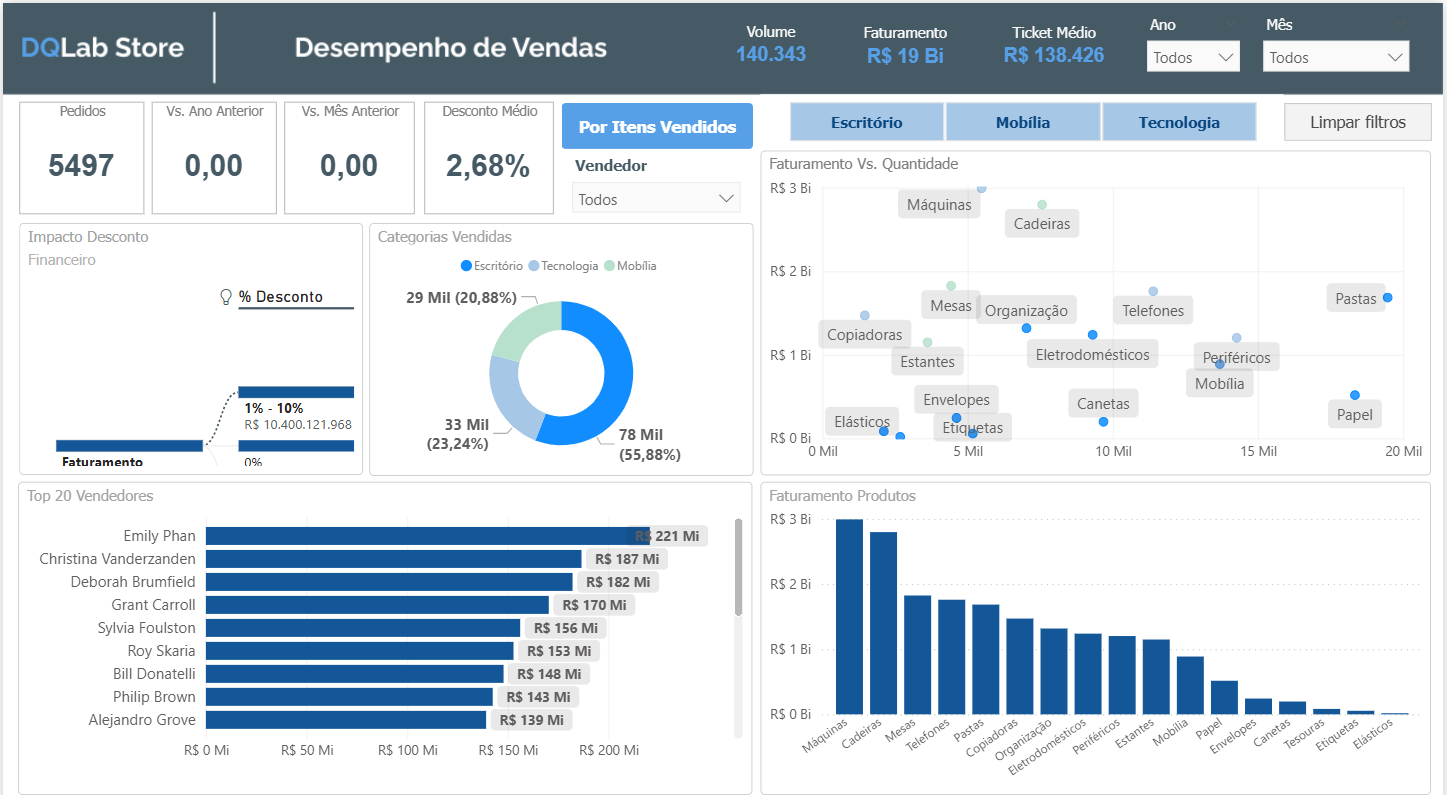

This screenshot's page, from the dashboard's own definition file:
{"tool":"powerbi","page":{"name":"Por Faturamento $","canvas":[1280,720],"ordinal":1},"visuals":[{"type":"card","title":"Volume","fields":{"Values":["Consulta8.quantidade_itens_vendidos"]},"box":[614.4,16.7,136.7,50],"z":0},{"type":"card","title":"Faturamento","fields":{"Values":["Consulta8.total_vendas"]},"box":[740,17.8,124.4,50],"z":1000},{"type":"slicer","fields":{"Values":["TabelaMeses.MesNome","TabelaMeses.MesNumero"]},"box":[1110,5.7,150,60],"z":2000},{"type":"card","title":"Ticket Médio","fields":{"Values":["Consulta8.TicketMedio"]},"box":[878.9,17.8,111.1,48.9],"z":3000},{"type":"clusteredBarChart","title":"Top Vendedores","fields":{"Category":["Consulta8.vendedor"],"Y":["RankingVendedores.total_vendas"]},"box":[13.8,425,652.5,278.8],"z":4000},{"type":"decompositionTreeVisual","title":"Impacto Desconto","fields":{"ExplainBy":["Consulta3.faixa_desconto"],"Analyze":["ImpactoDesconto.total_vendas"]},"box":[14.3,195.7,305.7,224.3],"z":5000},{"type":"clusteredColumnChart","title":"Faturamento Produtos","fields":{"Category":["Consulta1.subcategoria"],"Y":["ItensVsFaturamento.total_vendas"]},"box":[673.8,425,596.2,278.8],"z":6000},{"type":"donutChart","title":"Categorias Vendidas","fields":{"Category":["Consulta5.categoria_produto"],"Y":["Consulta5.itens_total"]},"box":[325,195,341.4,225],"z":7000},{"type":"scatterChart","title":"Faturamento Vs. Quantidade","fields":{"Y":["Consulta1.total_vendas"],"X":["Consulta1.itens_total"],"Category":["Consulta1.subcategoria"]},"box":[673.8,131.2,596.2,288.8],"z":8000},{"type":"slicer","fields":{"Values":["TabelaAnos.Ano"]},"box":[1007.1,5.7,102.9,60],"z":9000},{"type":"pageNavigator","box":[496.2,88.8,170,41.2],"z":10000},{"type":"card","title":"Vs. Mês Anterior","fields":{"Values":["ItensVsFaturamento.Crescimento % Mês Faturamento"]},"box":[250,88,116,100],"z":11000},{"type":"card","title":"Vs. Ano Anterior","fields":{"Values":["ItensVsFaturamento.Crescimento % Ano Faturamento"]},"box":[132,88,111,100],"z":12000},{"type":"card","title":"Pedidos","fields":{"Values":["PedidosUnicosPorMes.pedidos_unicos"]},"box":[14,88,111,100],"z":13000},{"type":"card","title":"Desconto Médio","fields":{"Values":["ImpactoDesconto.Desconto Médio"]},"box":[374,88,115,100],"z":14000},{"type":"slicer","fields":{"Values":["VendasPorCategoria.categoria_produto"]},"box":[673.8,81.2,465,48.8],"z":15000},{"type":"slicer","fields":{"Values":["RankingVendedores.vendedor"]},"box":[495.7,131.4,170,57.1],"z":16000},{"type":"actionButton","box":[1138.8,88.8,131.2,33.8],"z":17000}]}

Visuals, with their boxes in screenshot pixels (x1, y1, x2, y2), scaled from the page's 1280x720 canvas onto the 1447x795 screenshot:
"Volume" card: bbox=(695, 18, 849, 74)
"Faturamento" card: bbox=(837, 20, 977, 75)
slicer - TabelaMeses.MesNome x TabelaMeses.MesNumero: bbox=(1255, 6, 1424, 73)
"Ticket Médio" card: bbox=(994, 20, 1119, 74)
"Top Vendedores" clusteredBarChart: bbox=(16, 469, 753, 777)
"Impacto Desconto" decompositionTreeVisual: bbox=(16, 216, 362, 464)
"Faturamento Produtos" clusteredColumnChart: bbox=(762, 469, 1436, 777)
"Categorias Vendidas" donutChart: bbox=(367, 215, 753, 464)
"Faturamento Vs. Quantidade" scatterChart: bbox=(762, 145, 1436, 464)
slicer - TabelaAnos.Ano: bbox=(1138, 6, 1255, 73)
pageNavigator: bbox=(561, 98, 753, 144)
"Vs. Mês Anterior" card: bbox=(283, 97, 414, 208)
"Vs. Ano Anterior" card: bbox=(149, 97, 275, 208)
"Pedidos" card: bbox=(16, 97, 141, 208)
"Desconto Médio" card: bbox=(423, 97, 553, 208)
slicer - VendasPorCategoria.categoria_produto: bbox=(762, 90, 1287, 144)
slicer - RankingVendedores.vendedor: bbox=(560, 145, 753, 208)
actionButton: bbox=(1287, 98, 1436, 135)
